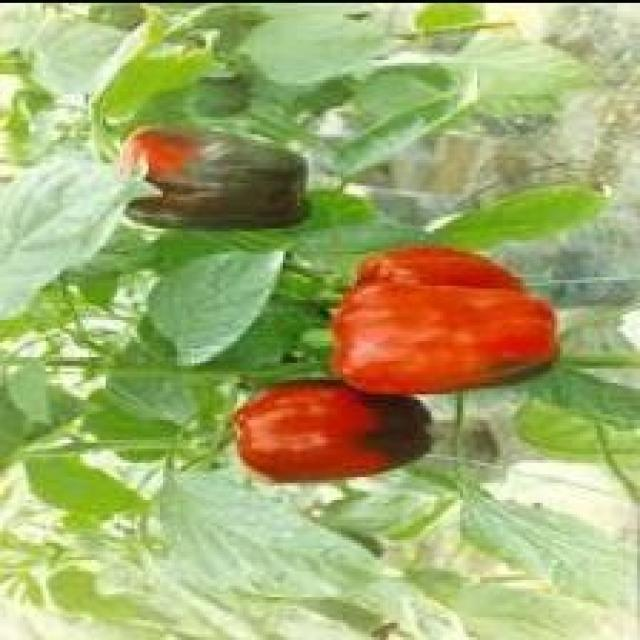Pepper: (329, 246, 563, 400), (231, 383, 434, 489), (117, 129, 311, 231)
